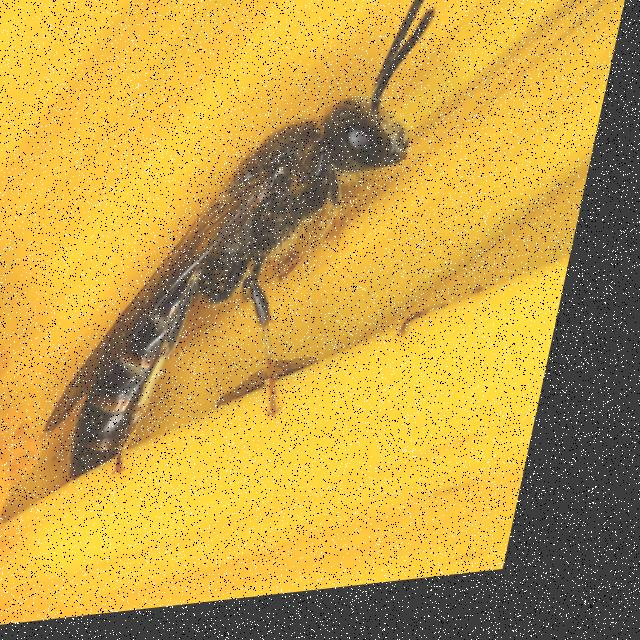Lasioglossum: (68, 0, 455, 512)
